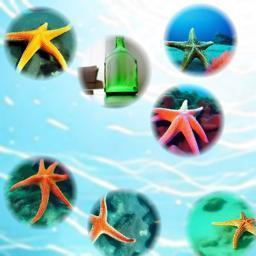not an animal: (96, 33, 143, 101)
